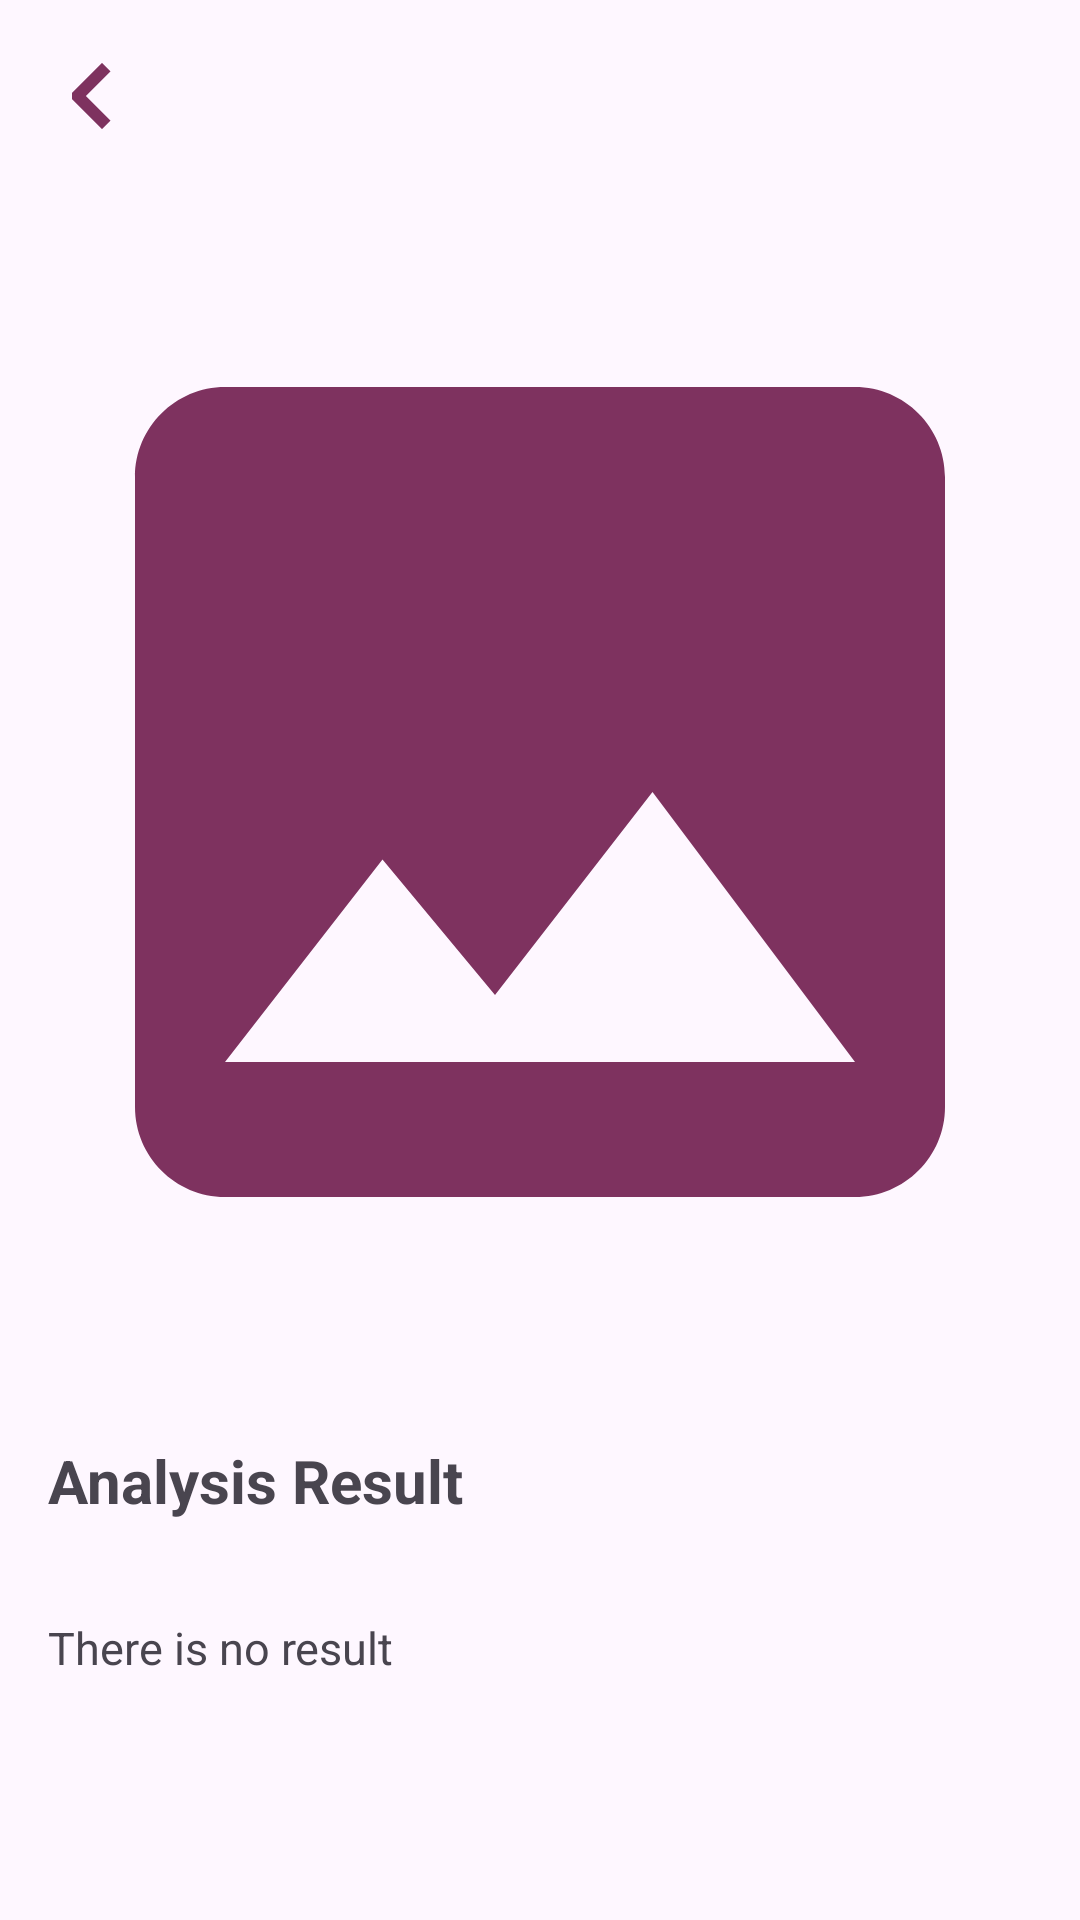

Where to tap for icons on this 1080px x 1920px app screen, as (x,y):
arrow back: (91,96)
